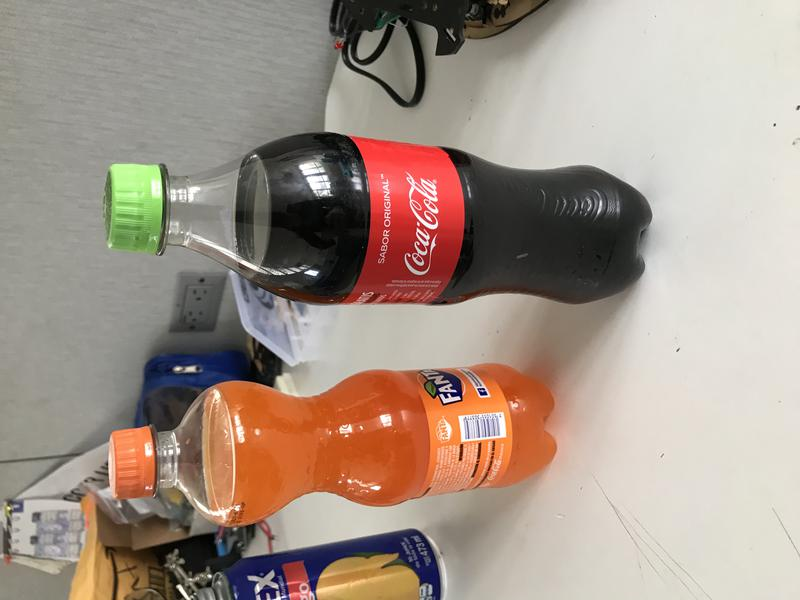coca_cola: (104, 131, 655, 309)
fanta: (109, 362, 560, 528)
jumex_botella: (195, 528, 448, 600)
